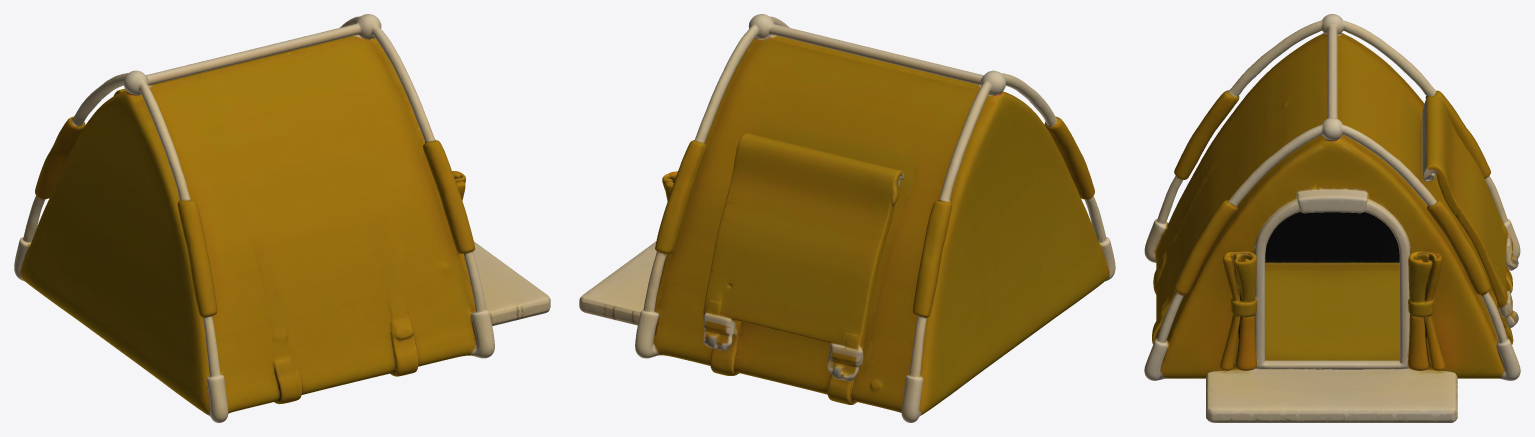
Rendered from CampTentHouseDoor.glb.
The picture shows the model from 3 angles, left to right: view 1: azimuth 30°, elevation 25°; view 2: azimuth 150°, elevation 25°; view 3: azimuth 270°, elevation 25°; orthographic projection. The views are drawn at different scales.
Visible parts, largest first — view 1: tripo_node_e7b54c55-2ed6-429e-b945-037053a48216; view 2: tripo_node_e7b54c55-2ed6-429e-b945-037053a48216; view 3: tripo_node_e7b54c55-2ed6-429e-b945-037053a48216.
Boxes of the visible parts, <box> form: tripo_node_e7b54c55-2ed6-429e-b945-037053a48216: <box>14,14,550,422</box>; tripo_node_e7b54c55-2ed6-429e-b945-037053a48216: <box>579,14,1115,422</box>; tripo_node_e7b54c55-2ed6-429e-b945-037053a48216: <box>1144,14,1520,422</box>.
Size of the model in its own units: 1 by 0.7092 by 0.9492.
1 material, 1 textured.
